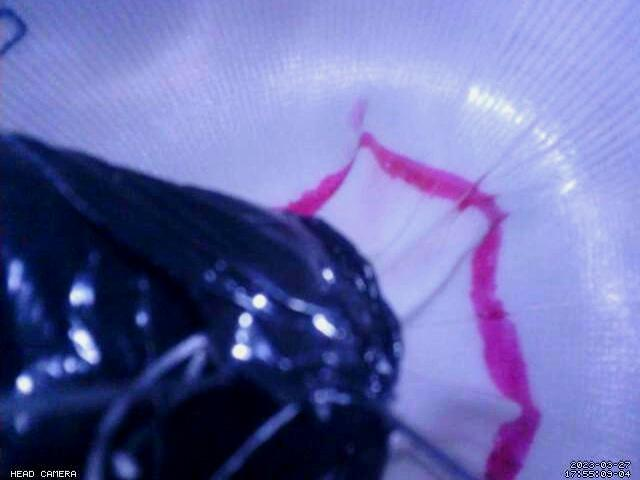red-circle: (285, 131, 542, 480)
